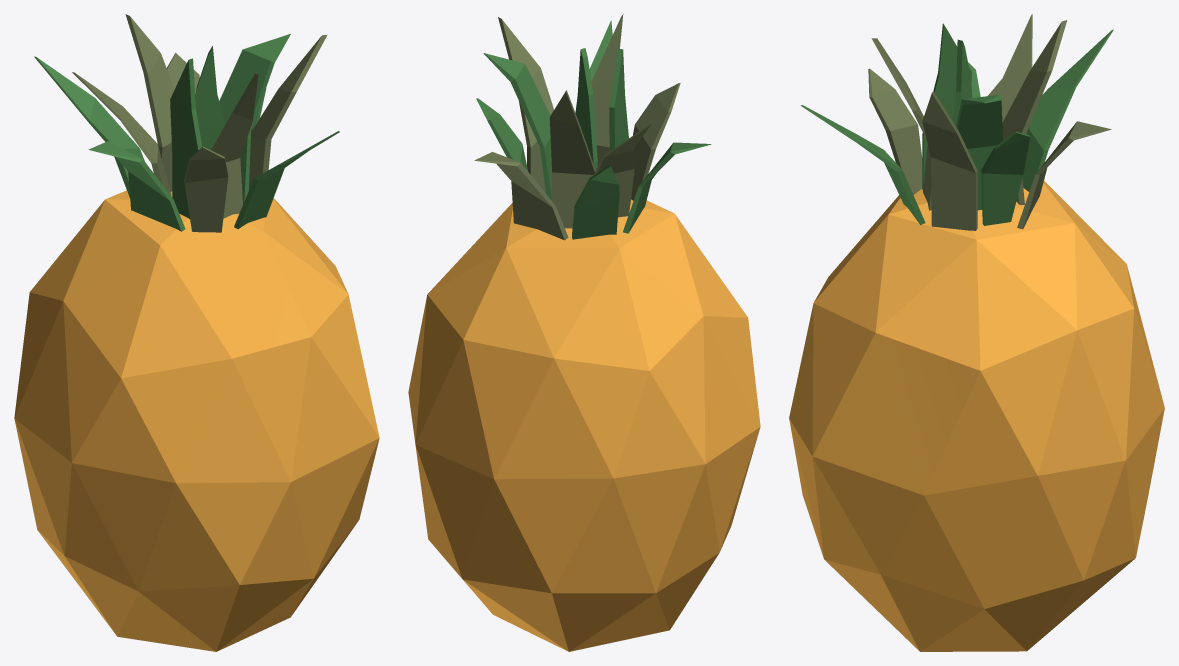
File: Pineapple_Raw.fbx
3 views of the same model, side by side, from view 1: azimuth 30°, elevation 25°; view 2: azimuth 150°, elevation 25°; view 3: azimuth 270°, elevation 25° (orthographic). The views are drawn at different scales.
Parts seen in each view (by area): view 1: SM_Pineapple_Raw; view 2: SM_Pineapple_Raw; view 3: SM_Pineapple_Raw.
Part boxes in pixels (box(x1,y1,x2,y2)): SM_Pineapple_Raw: box(14, 14, 379, 651); SM_Pineapple_Raw: box(408, 14, 760, 651); SM_Pineapple_Raw: box(789, 14, 1164, 651).
Bounding box in the file's own units: 14.63 × 26.5 × 15.41.
Materials: 1 (1 with a texture image).
